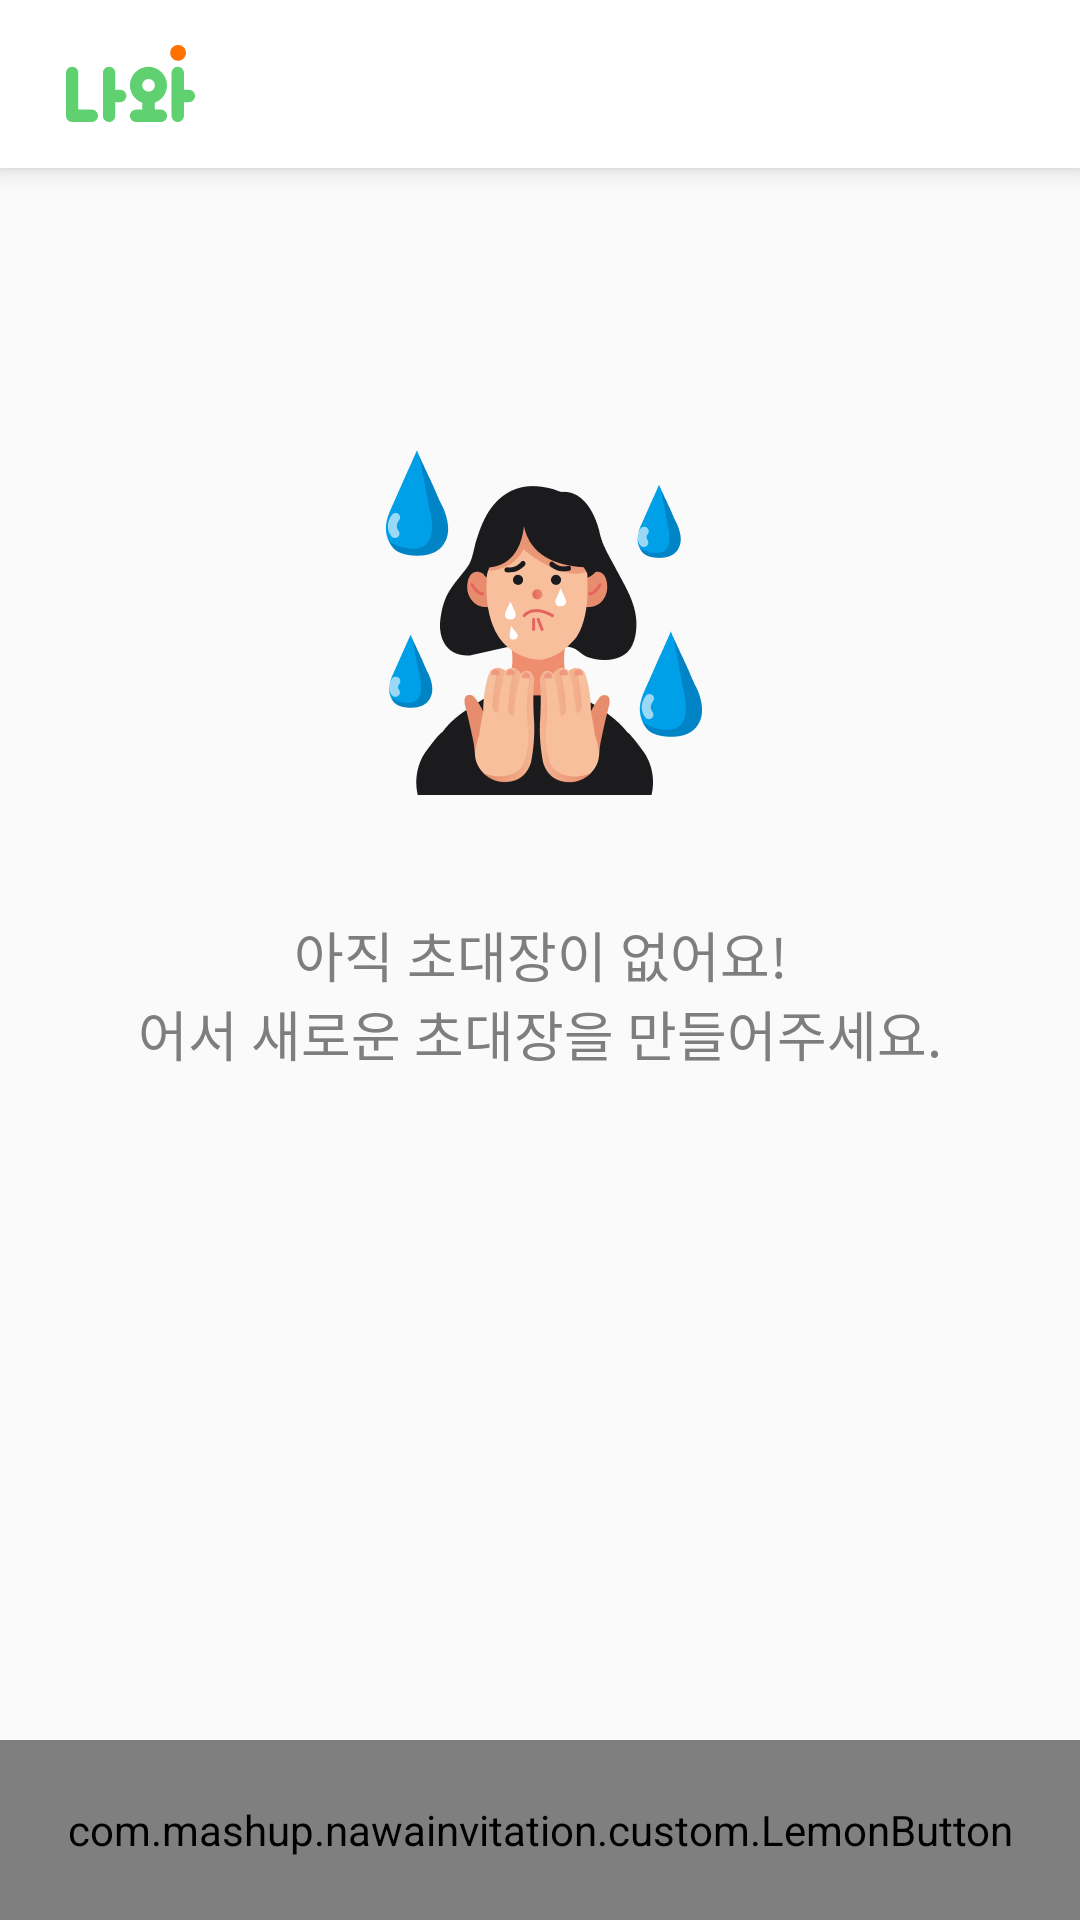

Point at icon controls on the screen. Image size 1080w x 1920h, points as [x,y].
please: [543,622]
